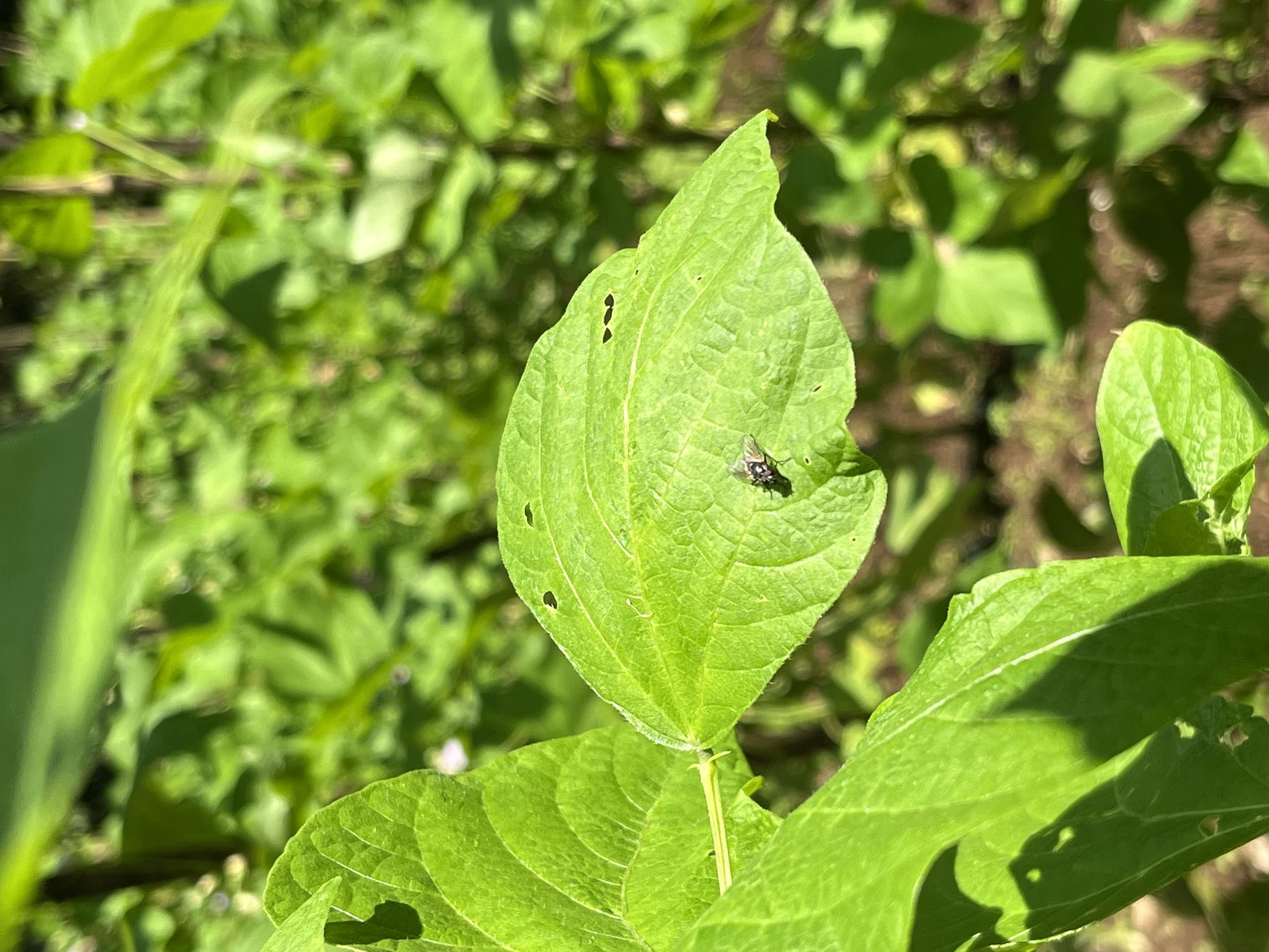mozaik: (315, 892, 432, 945), (535, 580, 592, 623), (598, 289, 623, 347), (519, 495, 548, 530)
